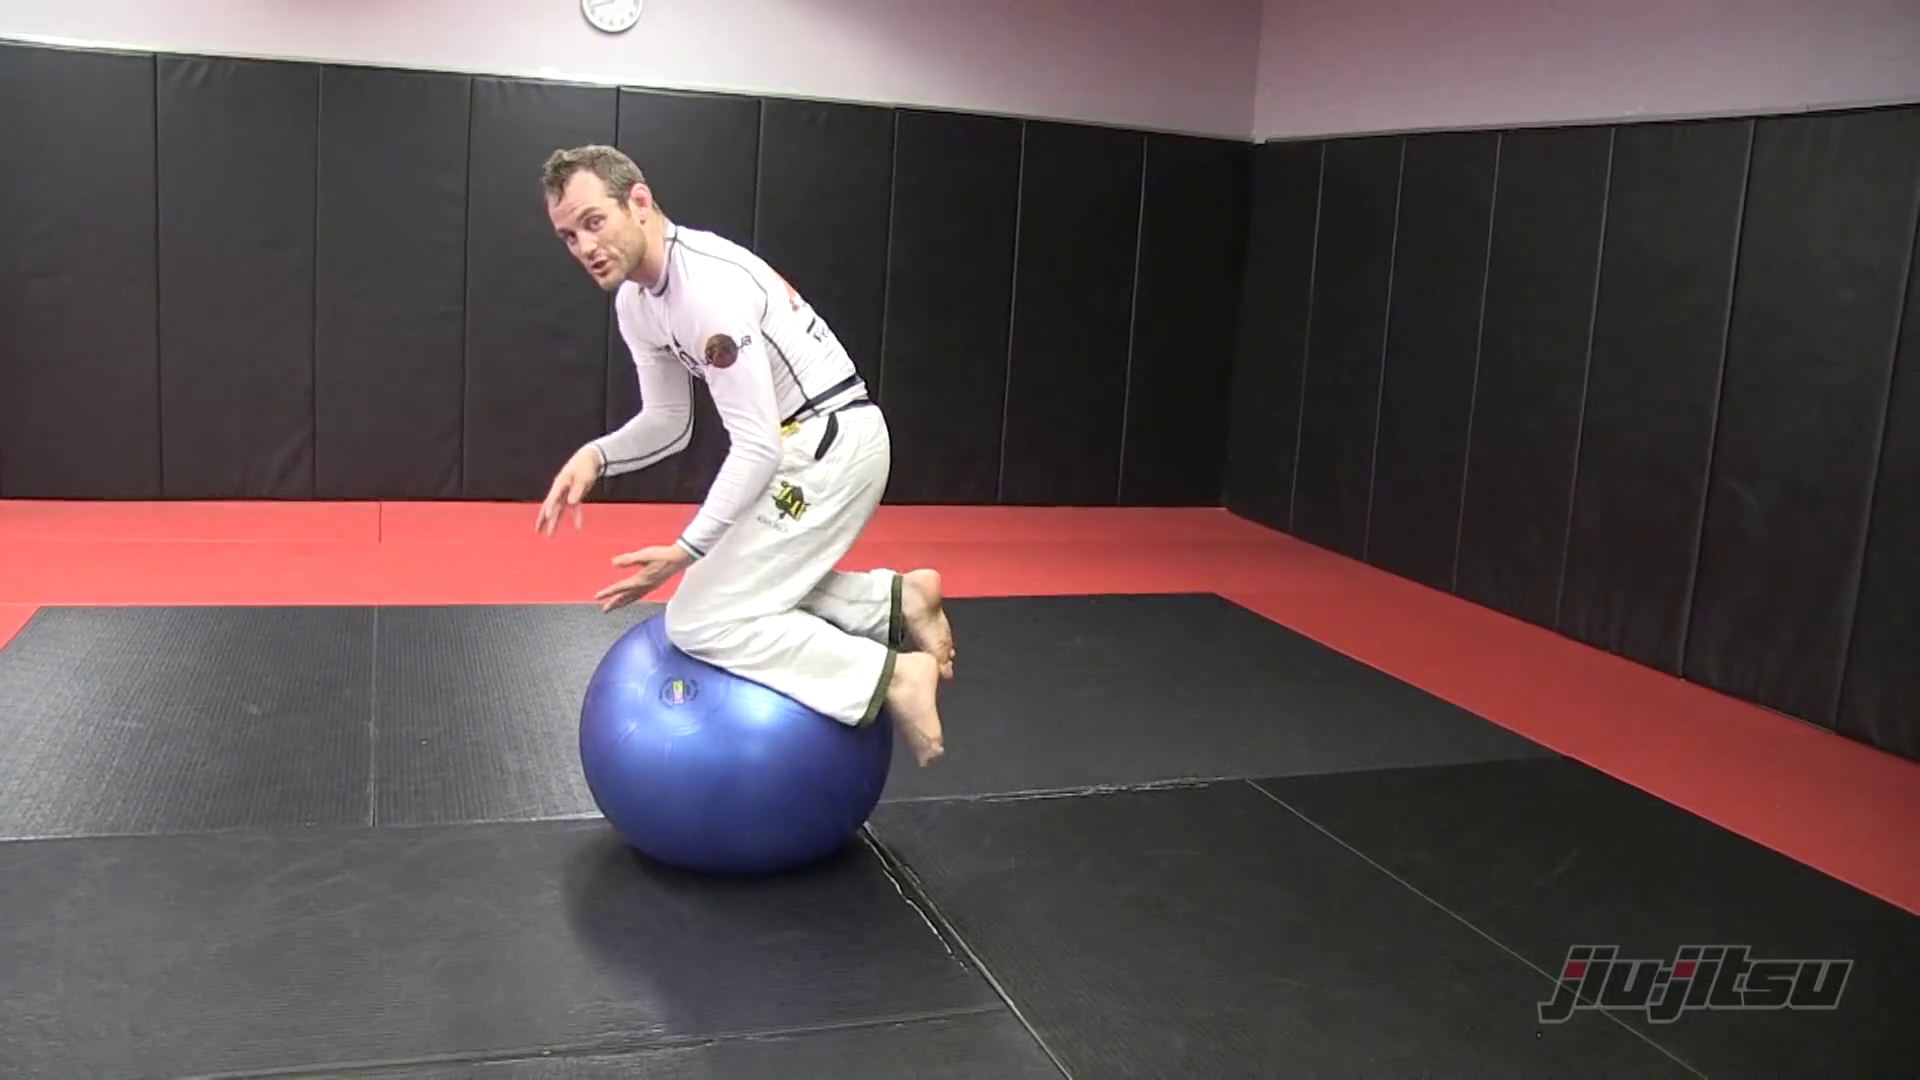yogaball: (543, 592, 911, 889)
